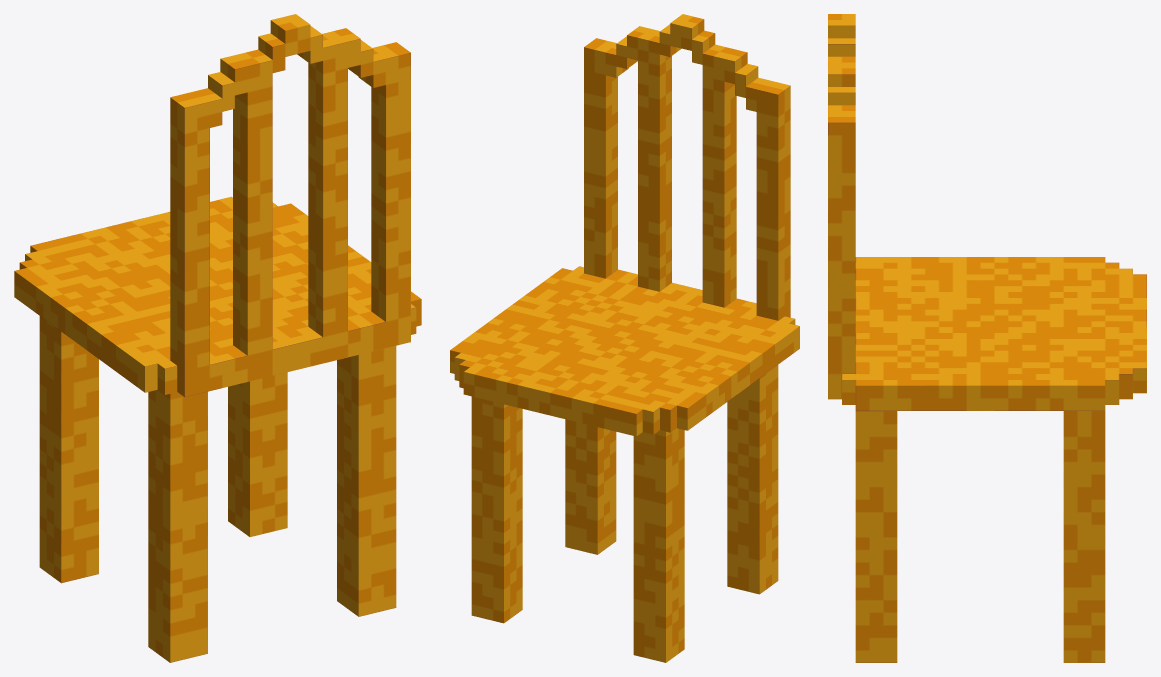
Rendered from Escenario 3 chocorramosurvivor-11.obj.
3 views of the same model, side by side, from view 1: azimuth 30°, elevation 25°; view 2: azimuth 150°, elevation 25°; view 3: azimuth 270°, elevation 25° (orthographic). The views are drawn at different scales.
Parts seen in each view (by area): view 1: Escenario_3_chocorramosurvivor-11; view 2: Escenario_3_chocorramosurvivor-11; view 3: Escenario_3_chocorramosurvivor-11.
Part boxes in pixels (box(x1,y1,x2,y2)): Escenario_3_chocorramosurvivor-11: box(14, 14, 421, 662); Escenario_3_chocorramosurvivor-11: box(450, 14, 799, 662); Escenario_3_chocorramosurvivor-11: box(828, 14, 1146, 662).
Bounding box in the file's own units: 2.2 × 4.7 × 2.3.
1 material, 1 textured.
